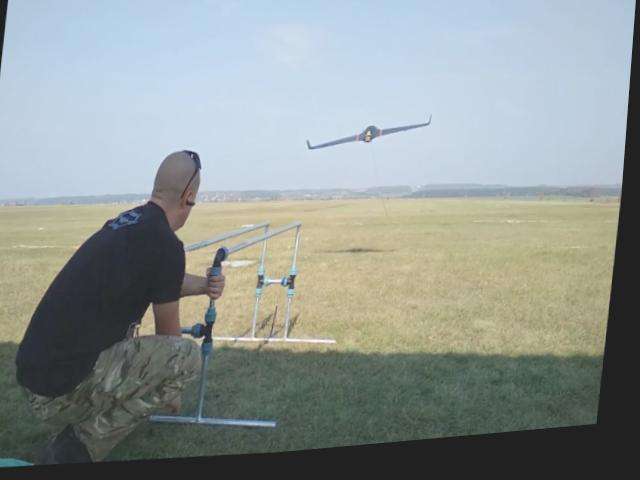plane: (309, 118, 436, 162)
